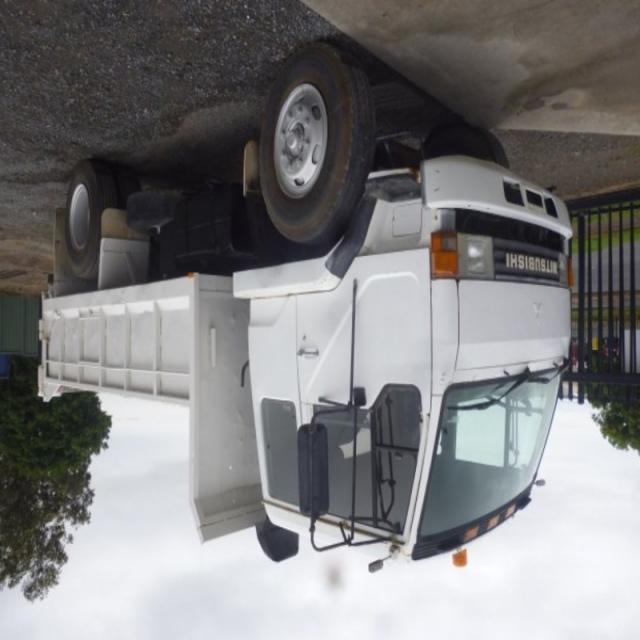truck: (34, 56, 576, 564)
